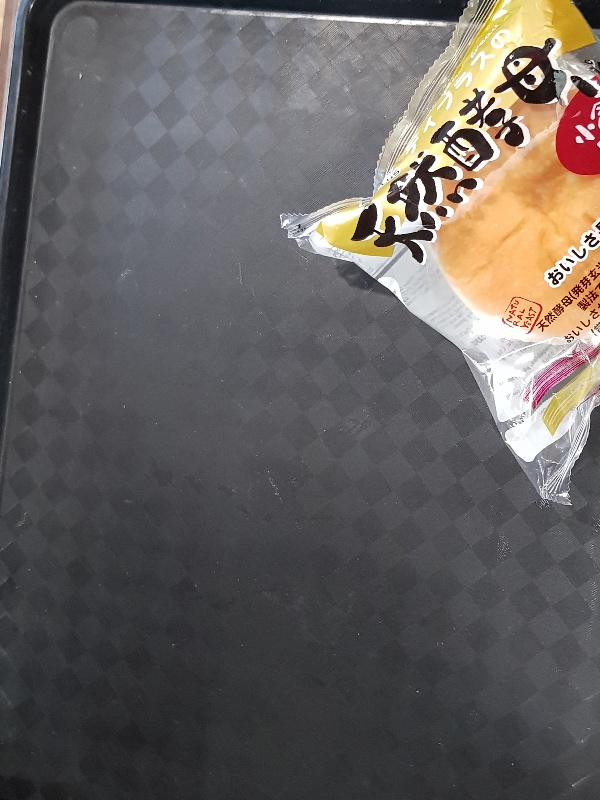Dayplus Red Bean: (278, 1, 600, 506)
